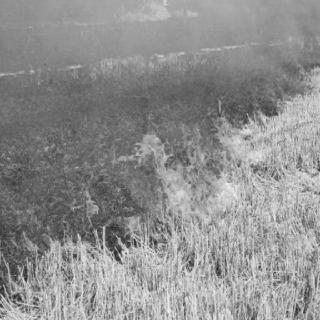Fire: (212, 88, 270, 170), (271, 48, 318, 108)
